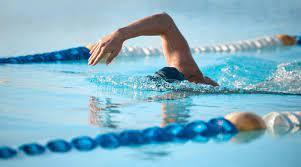Swimming: (54, 2, 242, 100)
